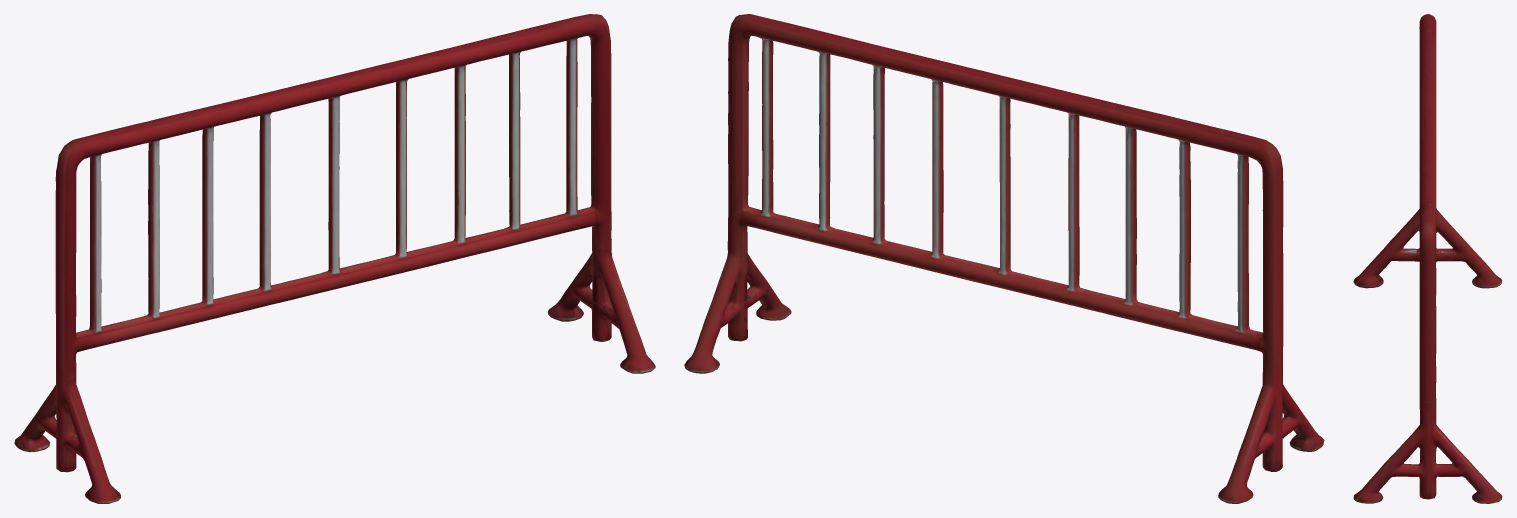
Rendered from Barrier_Illustration_1120182823_texture.fbx.
The picture shows the model from 3 angles, left to right: view 1: azimuth 30°, elevation 25°; view 2: azimuth 150°, elevation 25°; view 3: azimuth 270°, elevation 25°; orthographic projection. The views are drawn at different scales.
Parts seen in each view (by area): view 1: Mesh1.0; view 2: Mesh1.0; view 3: Mesh1.0.
Boxes of the visible parts, x1,y1,x2,y2 form: Mesh1.0: (14,14,655,503); Mesh1.0: (684,14,1324,503); Mesh1.0: (1353,14,1502,503).
Size of the model in its own units: 200 by 112 by 55.56.
Materials: 1 (1 with a texture image).
